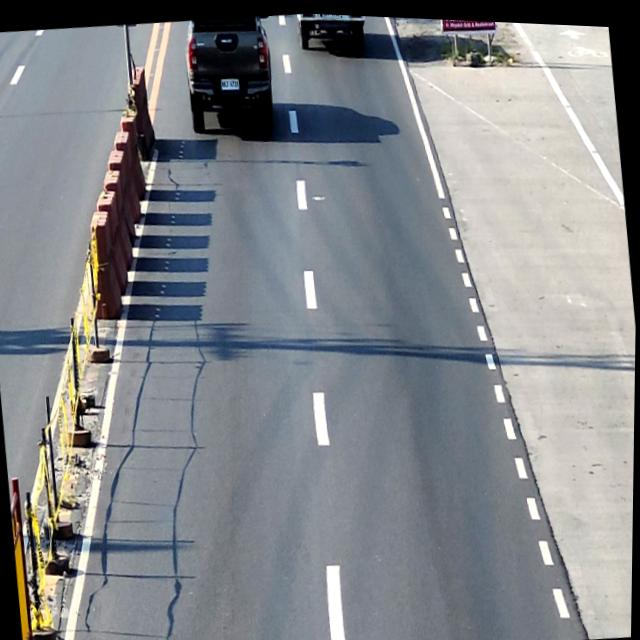Car: (180, 10, 279, 136)
License-Plate: (220, 74, 240, 90)
